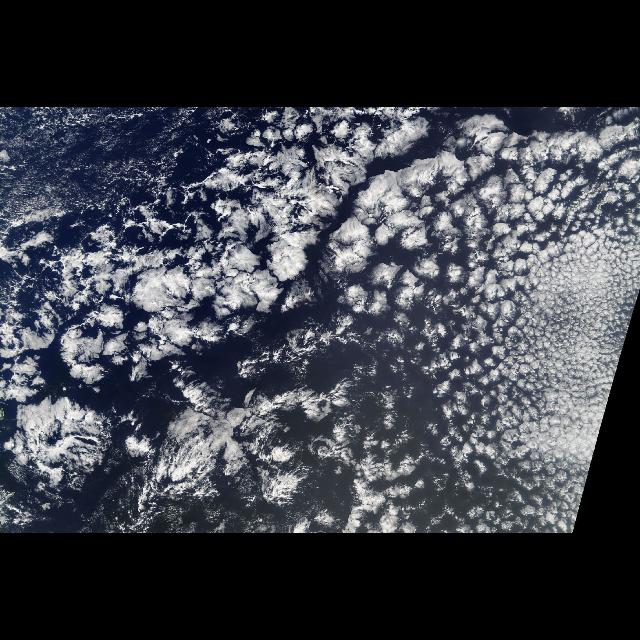Flower: (70, 179, 546, 373), (9, 394, 119, 490)
Sugar: (2, 109, 205, 239)
